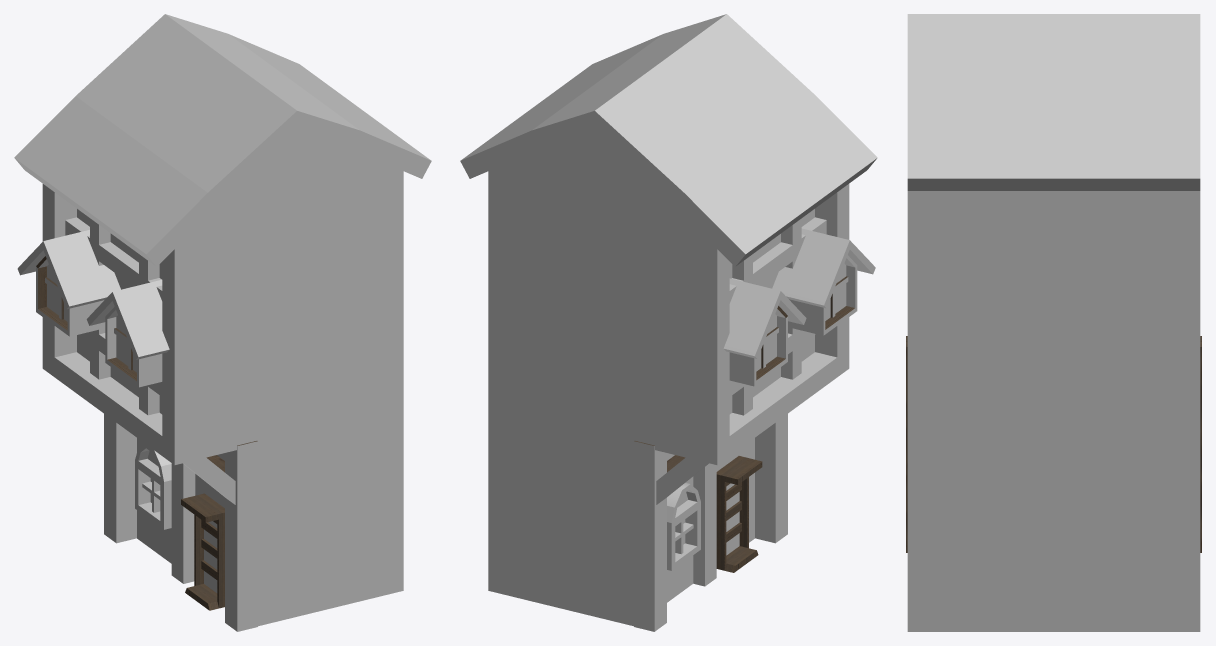
The model's file is townhouse2_combined.fbx.
3 renders of one model, left to right at view 1: azimuth 30°, elevation 25°; view 2: azimuth 150°, elevation 25°; view 3: azimuth 270°, elevation 25°, orthographic. The views are drawn at different scales.
Visible parts, largest first — view 1: pCube15; view 2: pCube15; view 3: pCube15.
Part boxes in pixels (x1,y1,x2,y2): pCube15: (14,14,431,631); pCube15: (460,14,877,631); pCube15: (906,14,1201,631).
Bounding box in the file's own units: 37.79 × 63.36 × 30.3.
